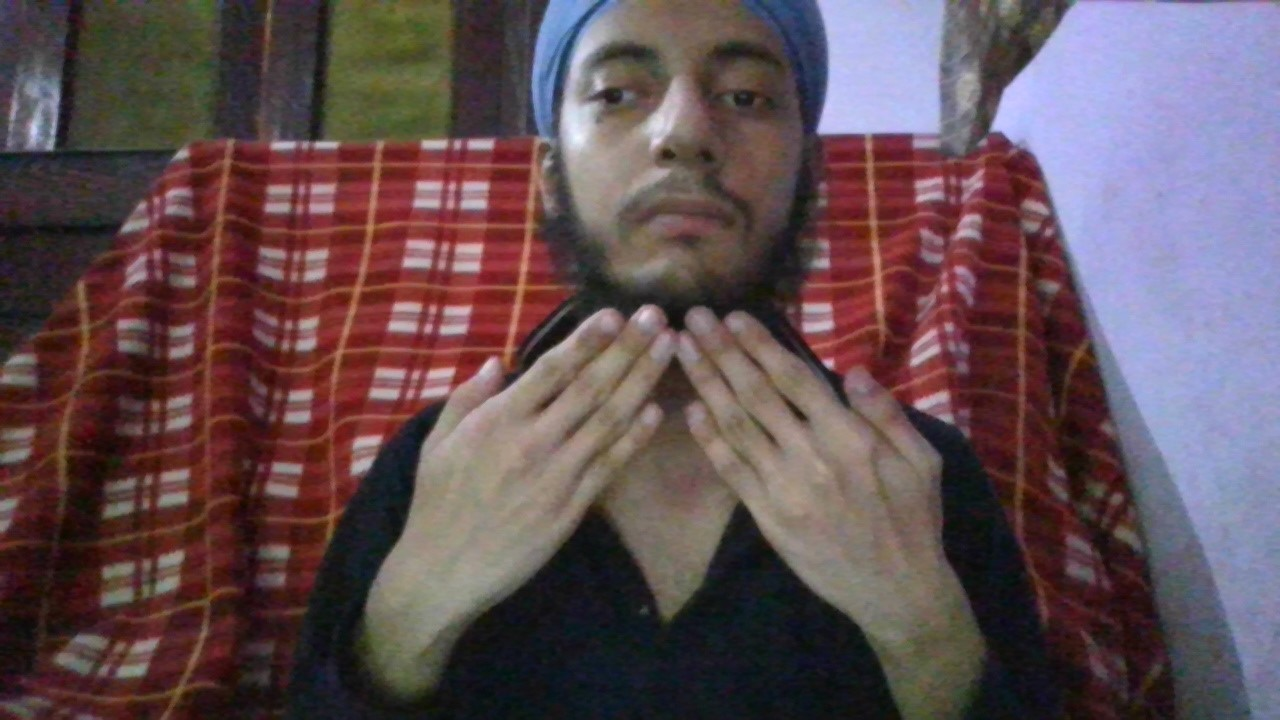Thank You: (420, 303, 950, 578)
